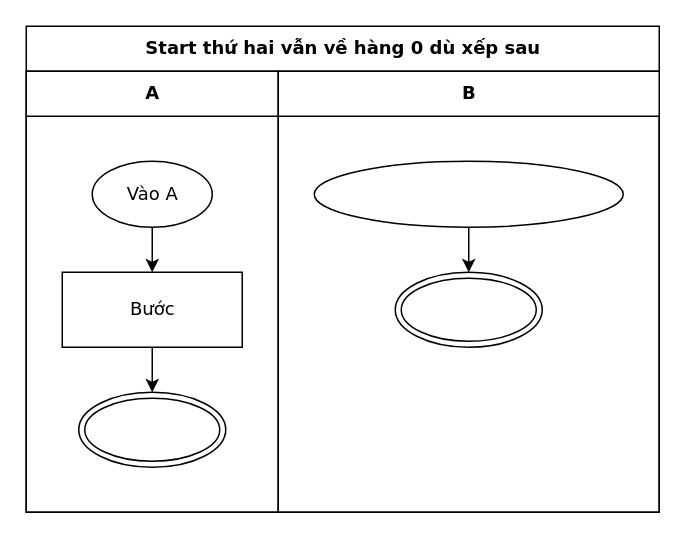
This 686x539 diagram has some shape labels left out. Here are the shapes that lost their labels. From the top down, the centre of each, then its label:
point 468,193: Vào B, bắt đầu muộn
point 468,309: Xong B
point 151,429: Xong A
